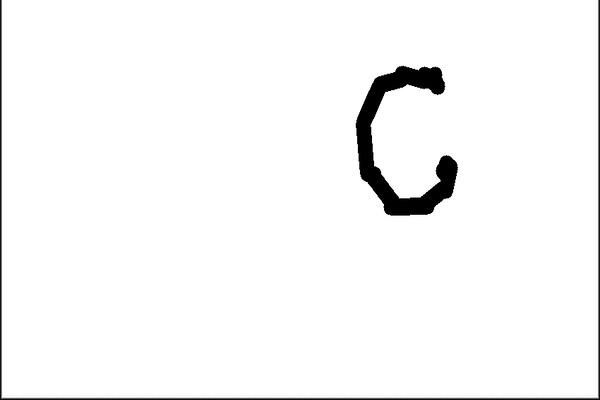C: (348, 60, 463, 218)
